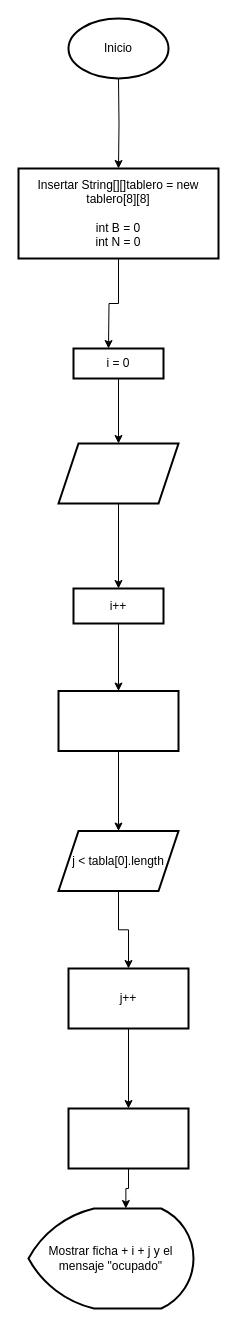
This 236x1326 diagram has some shape labels left out. Here are the shapes that lost their labels. From the top down, the centre of each, then its label:
(118,473): i < tabla.length
(118,721): j = 0
(128,1138): tablero[i][j] = ficha
